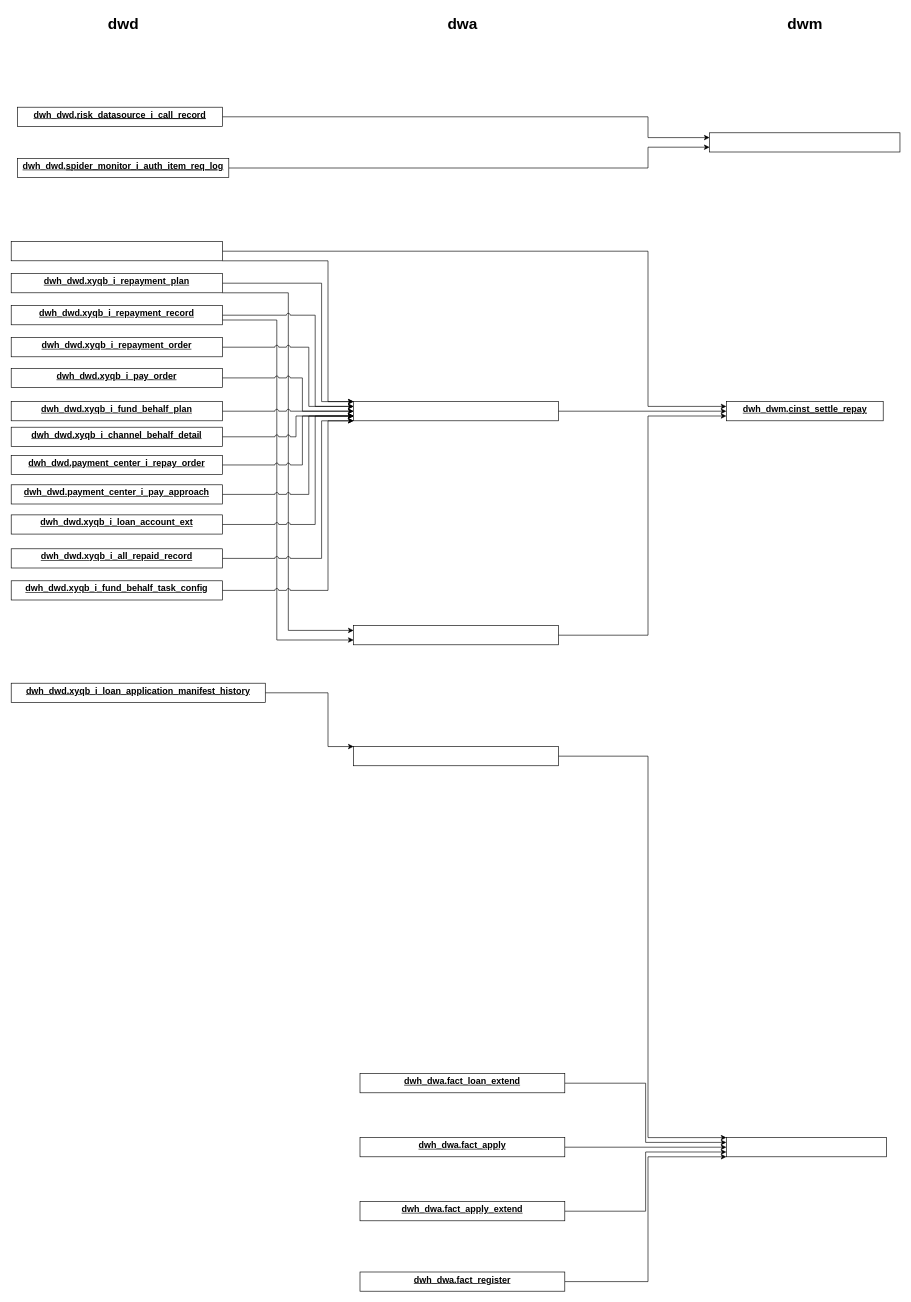
The diagram is 911 pixels wide and 1302 high, and some of its shapes have lost their labels. Here are the shapes that lost their labels. From the top down, the centre of each, then its label:
point (804, 142): dwh_dwm. settle_rc_call_record
point (116, 251): dwh_dwd. xyqb_i_apply_quota_record
point (455, 411): dwh_dwa.fact_repay
point (455, 635): dwh_dwa.fact_repay_extend
point (455, 756): dwh_dwa. fact_loan
point (806, 1147): dwh_dwm. cinst_settle_loan
